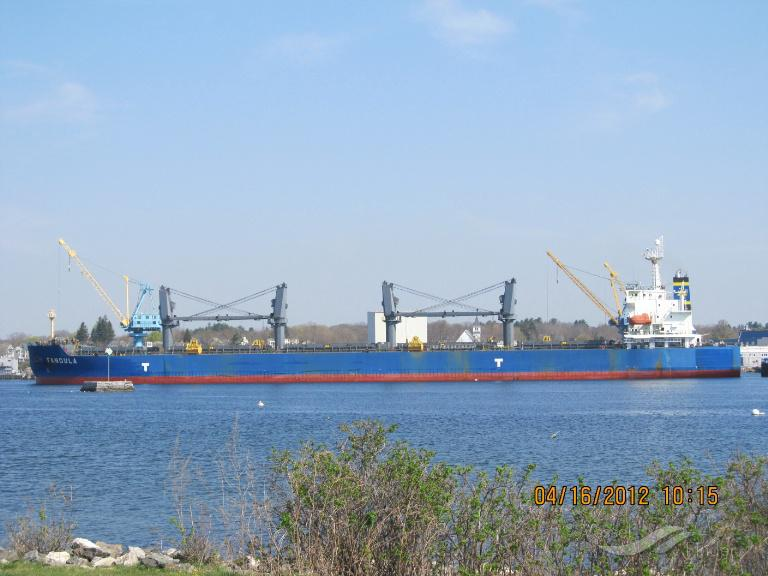OCR: (33, 350, 83, 368)
